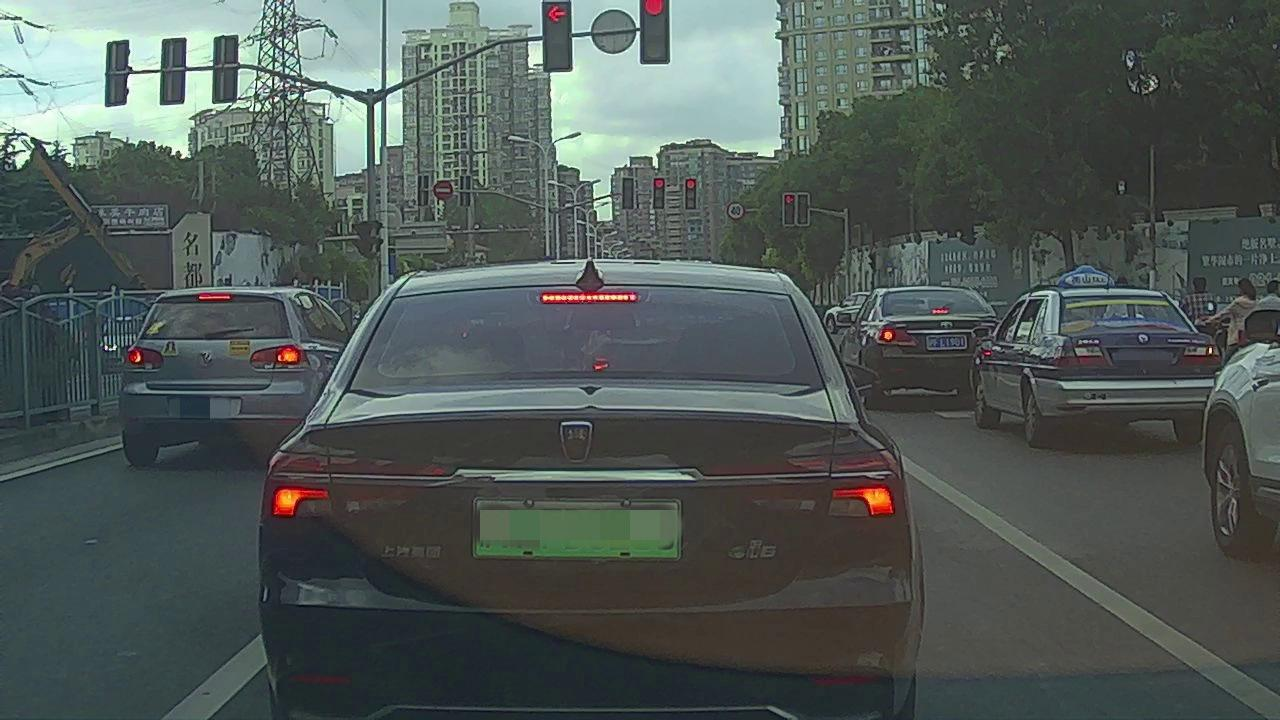traffic_light: (540, 1, 571, 66), (637, 1, 671, 60), (797, 192, 809, 226), (782, 194, 795, 224), (653, 178, 665, 208), (686, 179, 697, 209), (623, 177, 633, 209)
